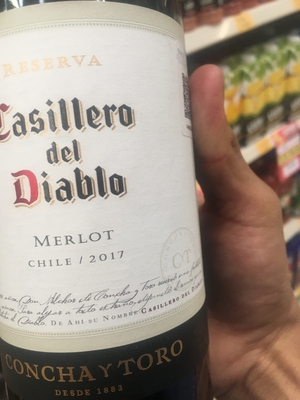casillero del diablo merlot: (1, 1, 214, 400)
